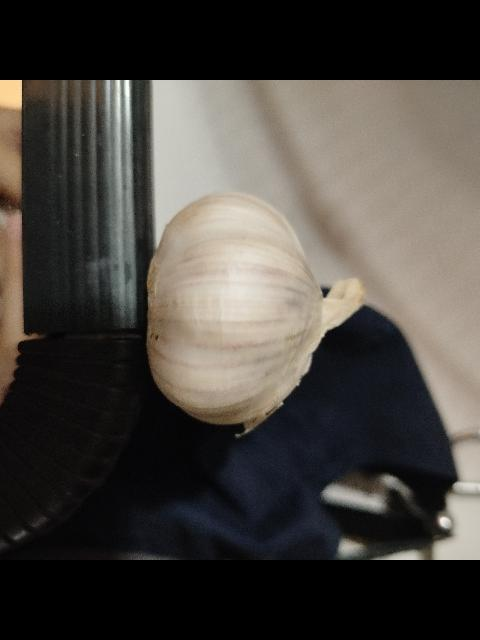garlic: (145, 190, 365, 438)
